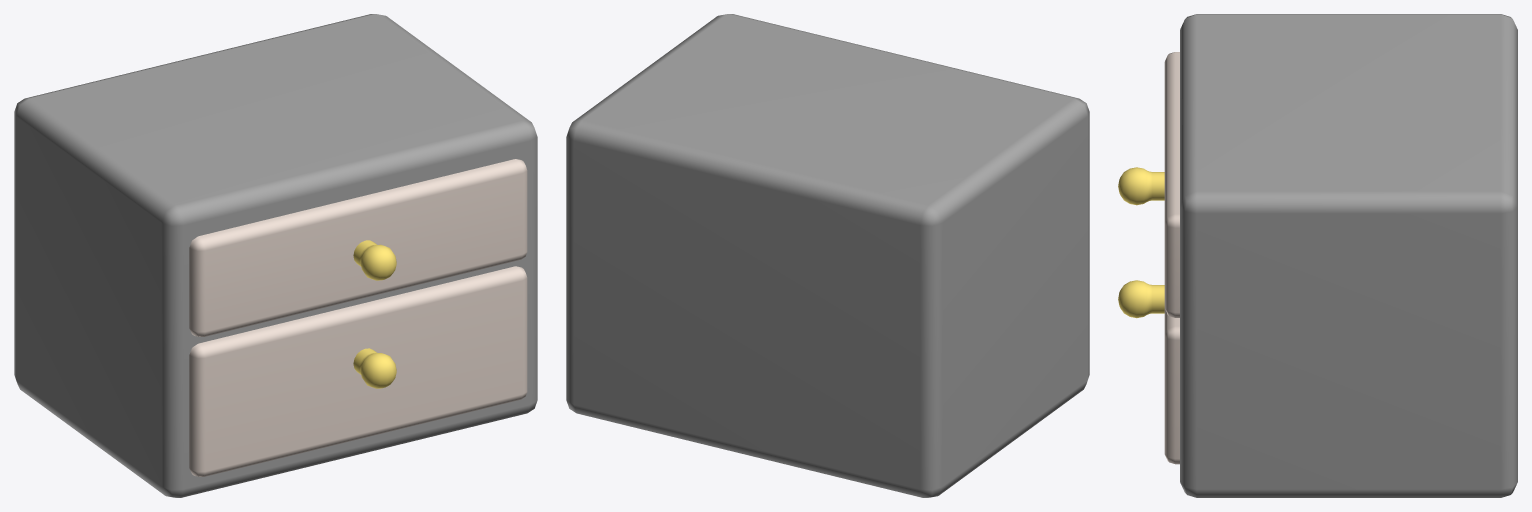
Rendered from Cabinet_3.glb.
3 renders of one model, left to right at view 1: azimuth 30°, elevation 25°; view 2: azimuth 150°, elevation 25°; view 3: azimuth 270°, elevation 25°, orthographic. The views are drawn at different scales.
Visible parts, largest first — view 1: Cabinet_3; view 2: Cabinet_3; view 3: Cabinet_3.
Boxes of the visible parts, box(x1,y1,x2,y2) form: Cabinet_3: box(14, 14, 537, 497); Cabinet_3: box(566, 14, 1089, 497); Cabinet_3: box(1118, 14, 1517, 497).
Size of the model in its own units: 1.03 by 0.7691 by 0.91.
Materials: 1 (1 with a texture image).
